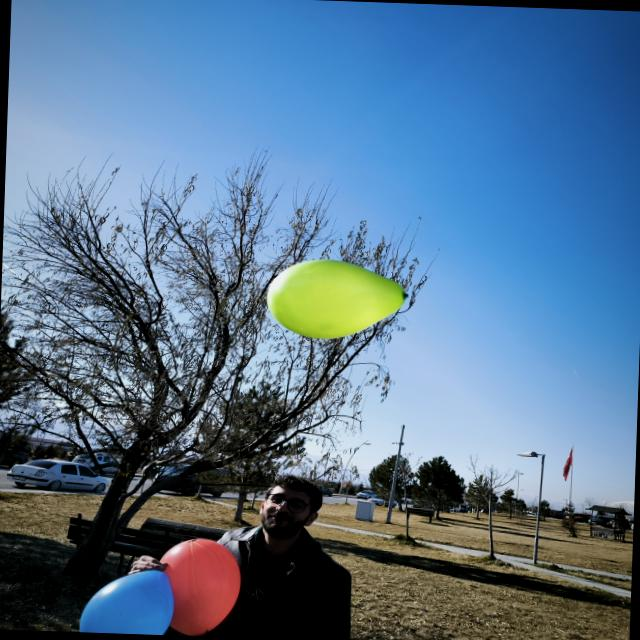balloon: (267, 259, 406, 338), (162, 538, 240, 636), (80, 571, 174, 635)
